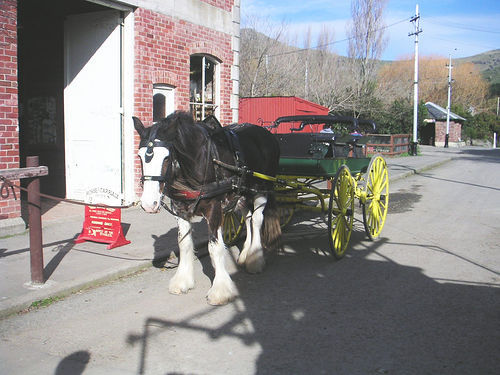horse: (133, 109, 282, 308)
